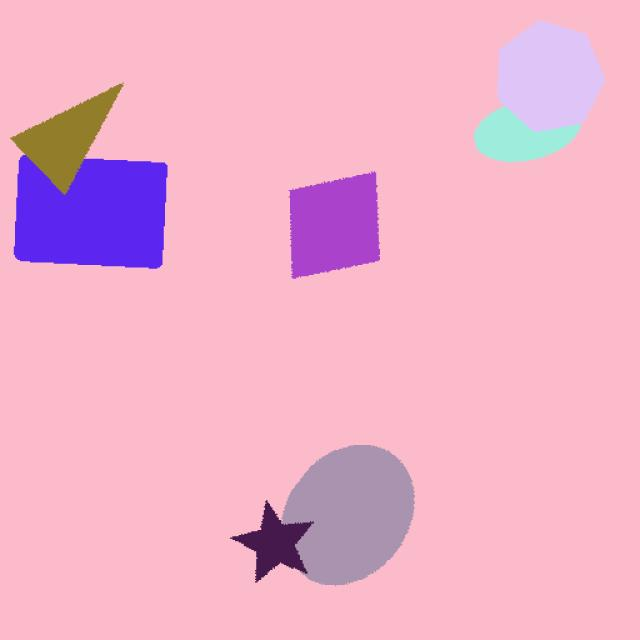Circle: (283, 436, 446, 592)
Heptagon: (483, 17, 632, 136)
Kite: (252, 158, 412, 300)
Oval: (460, 79, 612, 182)
Rectangle: (5, 150, 198, 294)
Star: (217, 493, 339, 583)
Triangle: (8, 71, 138, 210)
